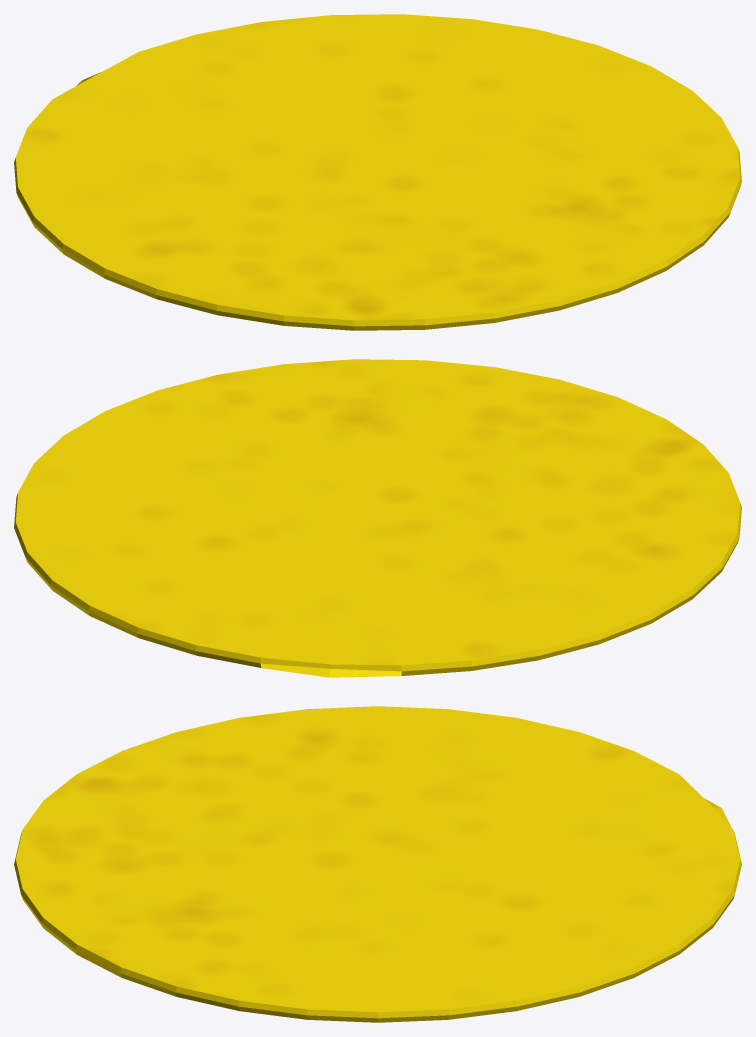
Rendered from tortilla.obj.
3 views of the same model, one above another, from view 1: azimuth 30°, elevation 25°; view 2: azimuth 150°, elevation 25°; view 3: azimuth 270°, elevation 25° (orthographic).
Visible parts, largest first — view 1: Cylinder; view 2: Cylinder; view 3: Cylinder.
Part boxes in pixels (x1,y1,x2,y2): Cylinder: [14, 14, 741, 330]; Cylinder: [14, 359, 741, 677]; Cylinder: [14, 706, 741, 1022].
Bounding box in the file's own units: 2.01 × 0.0318 × 2.01.
Materials: 1 (1 with a texture image).
